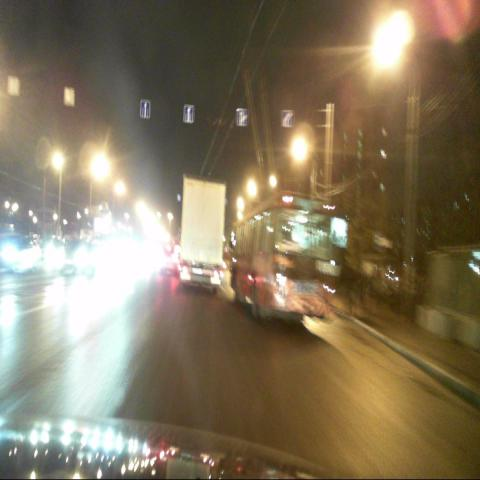5_15_2: (141, 100, 151, 118), (283, 110, 293, 127), (184, 105, 192, 123)
